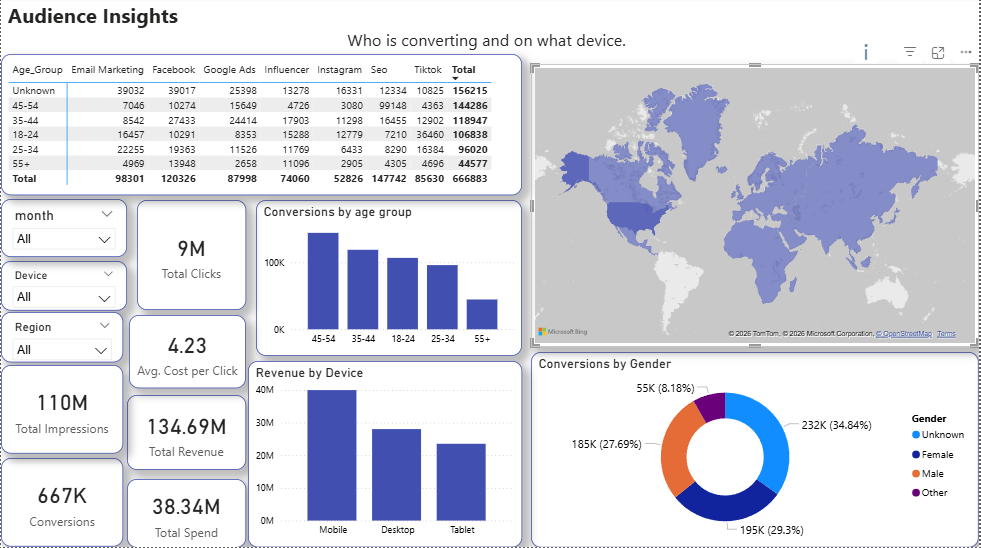

Layout of this report page (visuals, bound fields, positions):
{"tool":"powerbi","page":{"name":"Audience","canvas":[1280,720],"ordinal":2},"visuals":[{"type":"card","fields":{"Values":["Sum(campaign_data.Conversions)"]},"box":[0,603.9,160.2,116.1],"z":0},{"type":"card","fields":{"Values":["Sum(campaign_data.Revenue_USD)"]},"box":[164.6,521.6,155.8,98.4],"z":1000},{"type":"card","fields":{"Values":["Sum(campaign_data.Spend_USD)"]},"box":[164.6,630.4,155.8,89.6],"z":2000},{"type":"clusteredColumnChart","title":"Conversions by age group","fields":{"Category":["age_group.age"],"Y":["Sum(age_group.conversions)"]},"box":[333.6,266,348.2,204.2],"z":3000},{"type":"slicer","fields":{"Values":["campaign_data.Device"]},"box":[0,345.3,164.6,64.7],"z":4000},{"type":"textbox","box":[4.4,0,1263.7,74.9],"z":5000},{"type":"slicer","fields":{"Values":["campaign_data.Region"]},"box":[0,412.9,160.2,66.1],"z":6000},{"type":"slicer","fields":{"Values":["mOm.month"]},"box":[0,264.5,164.6,76.4],"z":7000},{"type":"card","fields":{"Values":["Sum(campaign_data.Clicks)"]},"box":[177.8,266,142.5,144],"z":8000},{"type":"card","fields":{"Values":["Sum(campaign_data.Impressions)"]},"box":[0,482,160.2,116.1],"z":9000},{"type":"card","fields":{"Values":["Avg(campaign_data.CPC_USD)"]},"box":[167.5,415.8,152.8,95.5],"z":10000},{"type":"donutChart","title":"Conversions by Gender","fields":{"Category":["campaign_data.Gender"],"Y":["Sum(campaign_data.Conversions)"]},"box":[693.6,464.3,586.3,255.7],"z":11000},{"type":"pivotTable","title":"CTR by channel","fields":{"Rows":["campaign_data.Age_Group"],"Columns":["campaign_data.Channel"],"Values":["Sum(campaign_data.Conversions)"]},"box":[0,74.9,681.8,185.1],"z":12000},{"type":"clusteredColumnChart","title":"Revenue by Device","fields":{"Category":["Device.device"],"Y":["Sum(Device.highest_revenue)"]},"box":[323.3,476.1,358.5,243.9],"z":13000},{"type":"filledMap","title":"Revenue by Region","fields":{"Category":["campaign_data.Region"]},"box":[693.6,88.2,586.3,370.3],"z":14000}]}

Visuals, with their boxes in screenshot pixels (x1, y1, x2, y2), scaled from the page's 1280x720 canvas onto the 981x548 screenshot:
card - Sum(campaign_data.Conversions): Rect(0, 460, 123, 547)
card - Sum(campaign_data.Revenue_USD): Rect(126, 397, 246, 472)
card - Sum(campaign_data.Spend_USD): Rect(126, 480, 246, 547)
"Conversions by age group" clusteredColumnChart: Rect(256, 202, 523, 358)
slicer - campaign_data.Device: Rect(0, 263, 126, 312)
textbox: Rect(3, 0, 972, 57)
slicer - campaign_data.Region: Rect(0, 314, 123, 365)
slicer - mOm.month: Rect(0, 201, 126, 259)
card - Sum(campaign_data.Clicks): Rect(136, 202, 245, 312)
card - Sum(campaign_data.Impressions): Rect(0, 367, 123, 455)
card - Avg(campaign_data.CPC_USD): Rect(128, 316, 245, 389)
"Conversions by Gender" donutChart: Rect(532, 353, 980, 547)
"CTR by channel" pivotTable: Rect(0, 57, 523, 198)
"Revenue by Device" clusteredColumnChart: Rect(248, 362, 523, 547)
"Revenue by Region" filledMap: Rect(532, 67, 980, 349)
